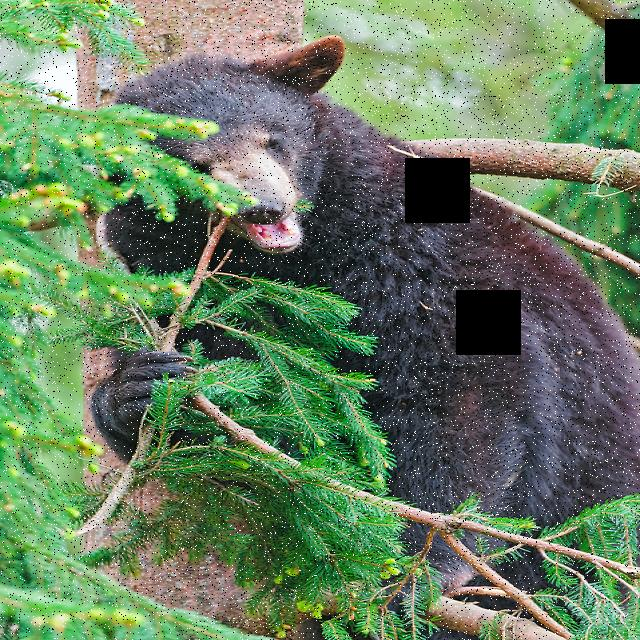Bear: (72, 39, 640, 574)
